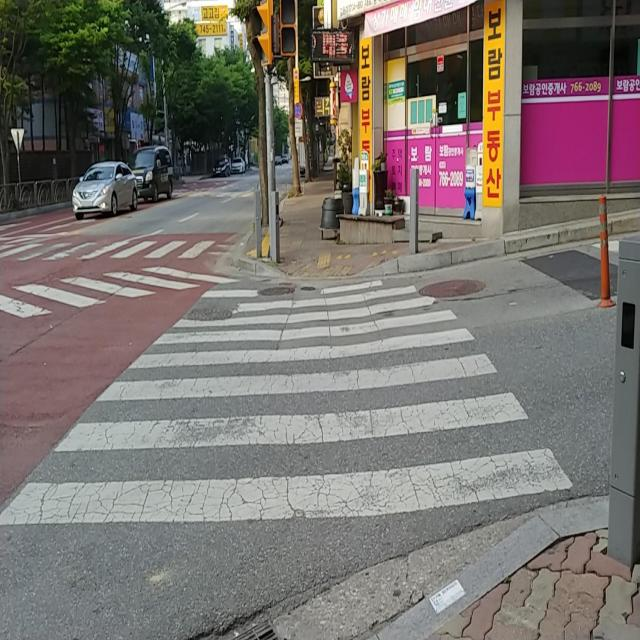횡단보도: (0, 276, 574, 527), (0, 232, 216, 262)
